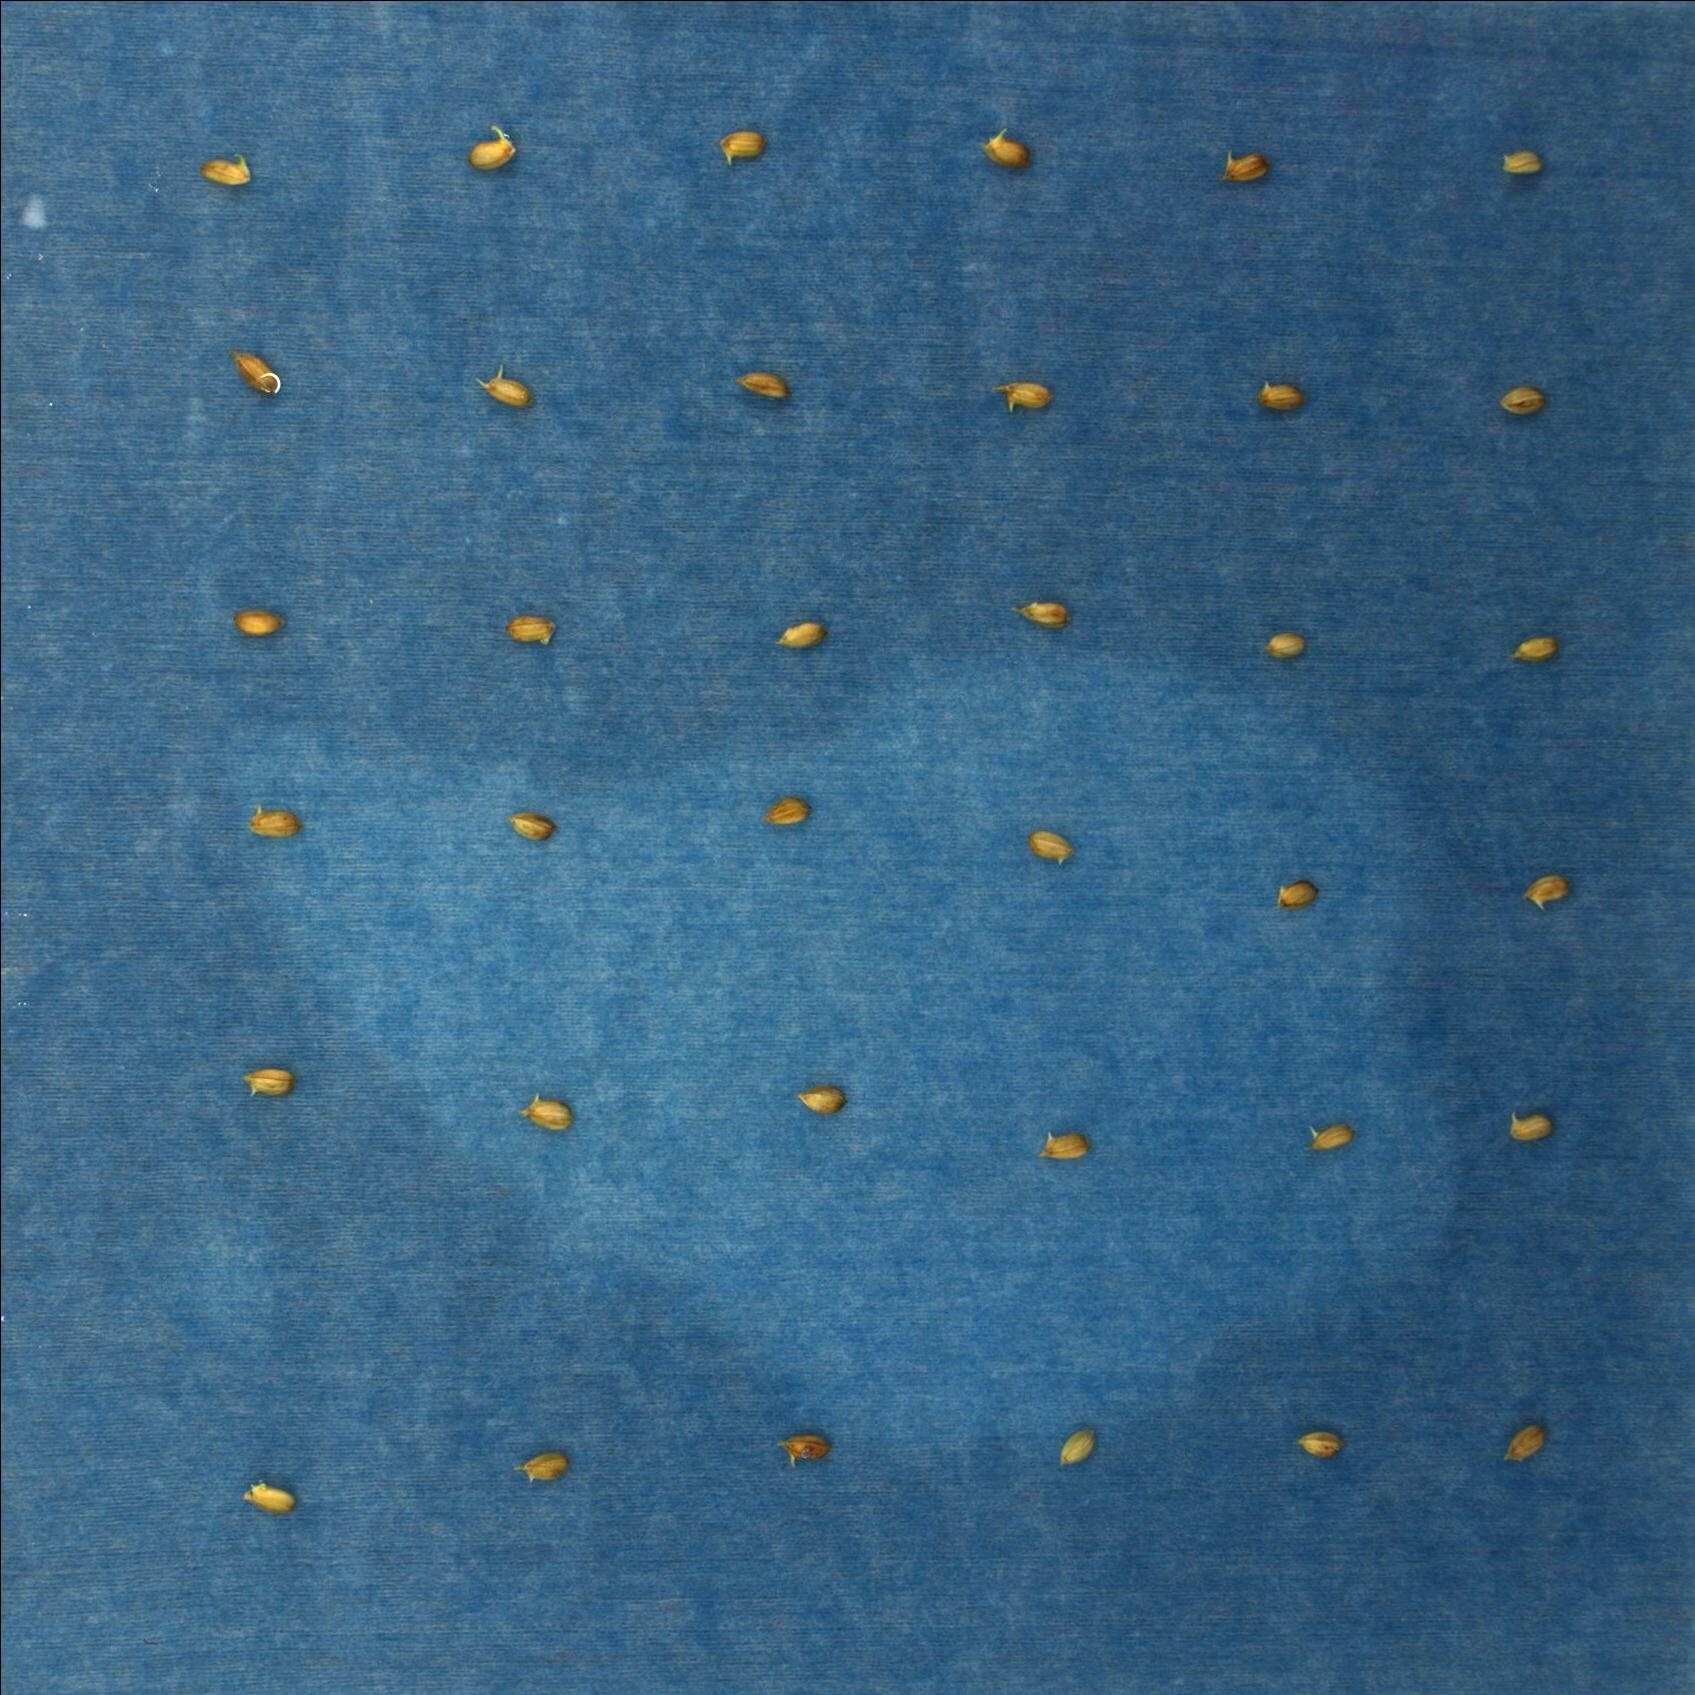not sprout: (515, 1080, 582, 1139), (230, 340, 289, 405), (464, 113, 520, 179), (711, 120, 778, 172), (227, 596, 295, 646), (1498, 1412, 1555, 1471), (478, 362, 540, 416), (765, 610, 830, 661), (775, 1420, 837, 1470), (509, 1445, 577, 1489), (498, 601, 557, 650), (1049, 1419, 1101, 1475), (501, 798, 557, 847), (757, 789, 820, 832), (736, 355, 795, 400), (1215, 144, 1274, 189), (997, 374, 1059, 416), (978, 129, 1037, 172), (1515, 868, 1571, 913), (1026, 823, 1076, 872), (237, 1055, 295, 1097), (1504, 630, 1562, 672), (1038, 1121, 1090, 1167), (244, 801, 303, 841), (795, 1076, 854, 1116), (1257, 621, 1305, 669), (241, 1478, 298, 1516), (1256, 373, 1313, 411), (200, 152, 253, 194), (1302, 1116, 1357, 1156), (1495, 383, 1549, 421), (1507, 1101, 1555, 1142), (1020, 587, 1069, 627), (1498, 147, 1554, 183), (1293, 1426, 1350, 1461), (1277, 880, 1324, 920)
